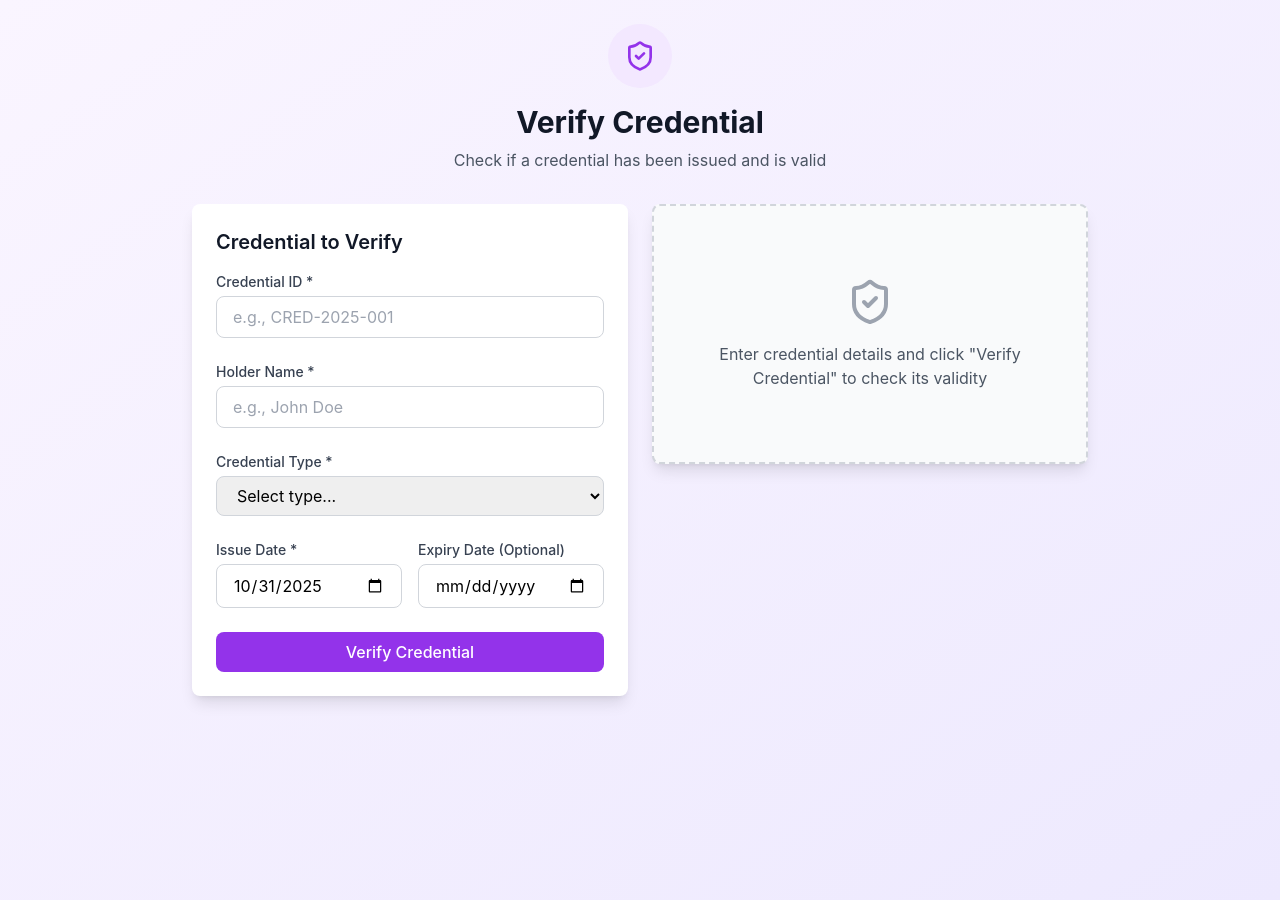
Test: VerificationPage › shows verified state and details when API returns verified=true
The width and height of the screenshot is (1280, 900).
Step 1. Type "CRED-1" into the field labelled "Credential ID *" → (410, 317), box [216,296,604,338]
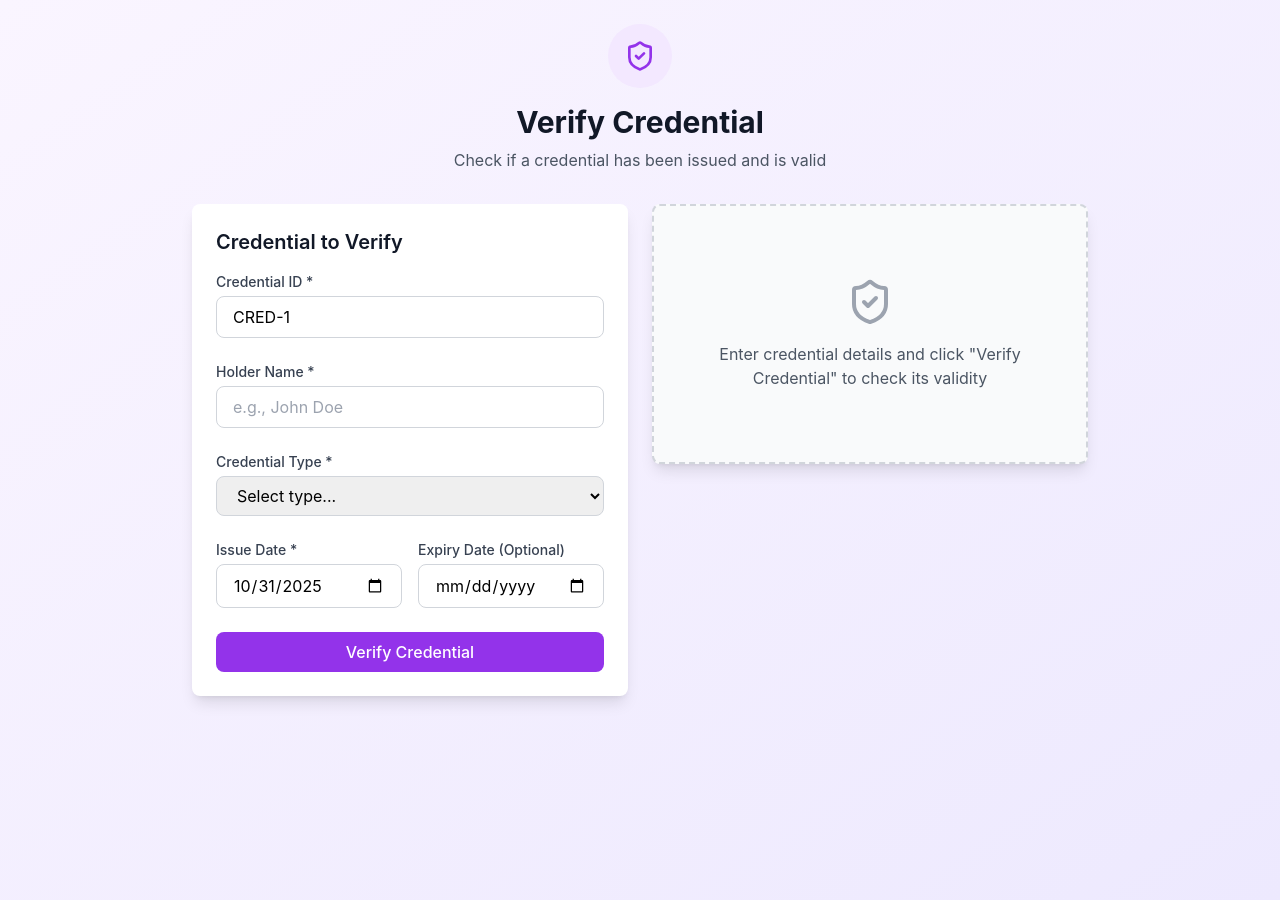
Step 2. Type "John Doe" into the field labelled "Holder Name *" → (410, 407), box [216,386,604,428]
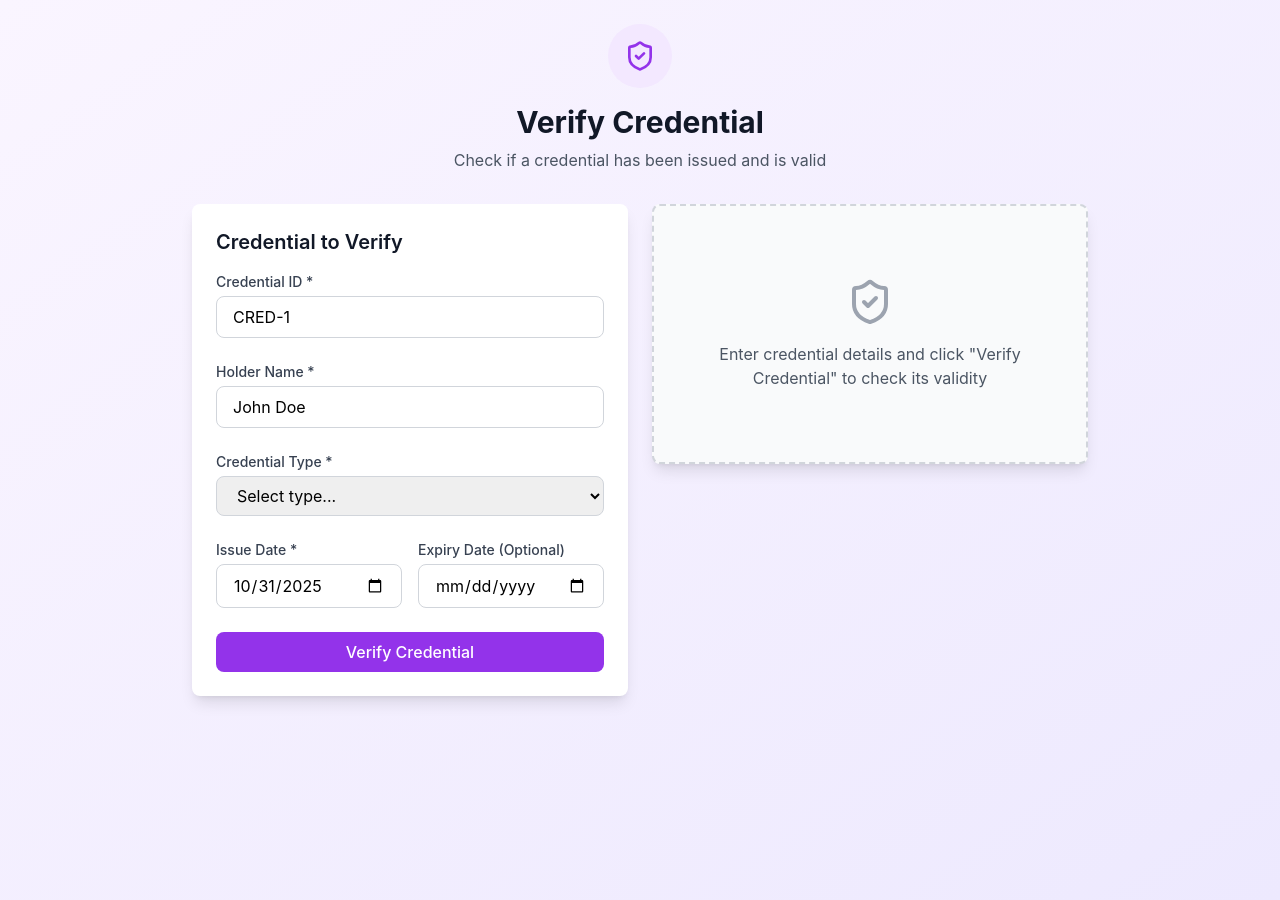
Step 3. Select "Passport" in the dropdown labelled "Credential Type *" → (410, 496), box [216,476,604,516]
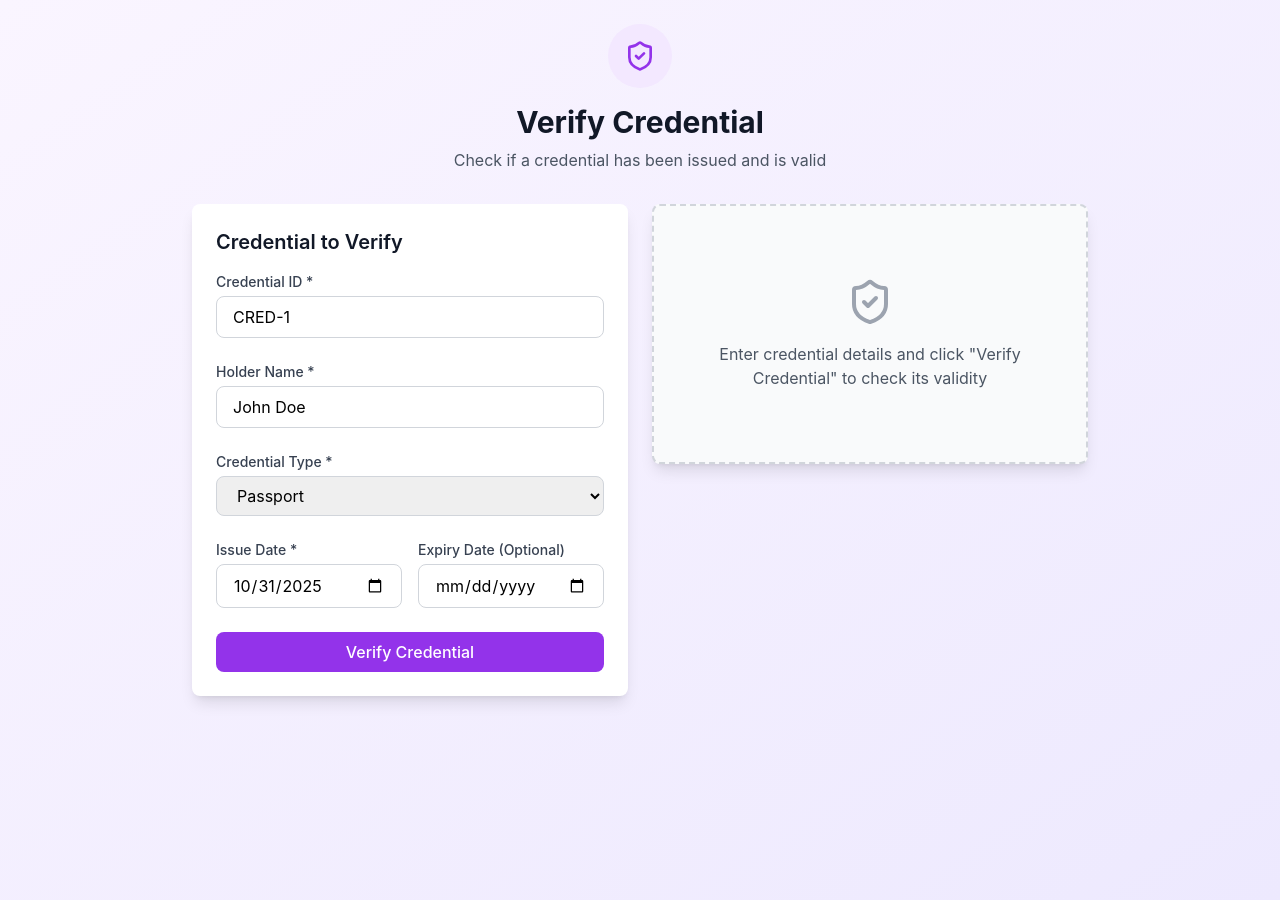
Step 4. Click the button "Verify Credential" → (410, 652), box [216,632,604,672]
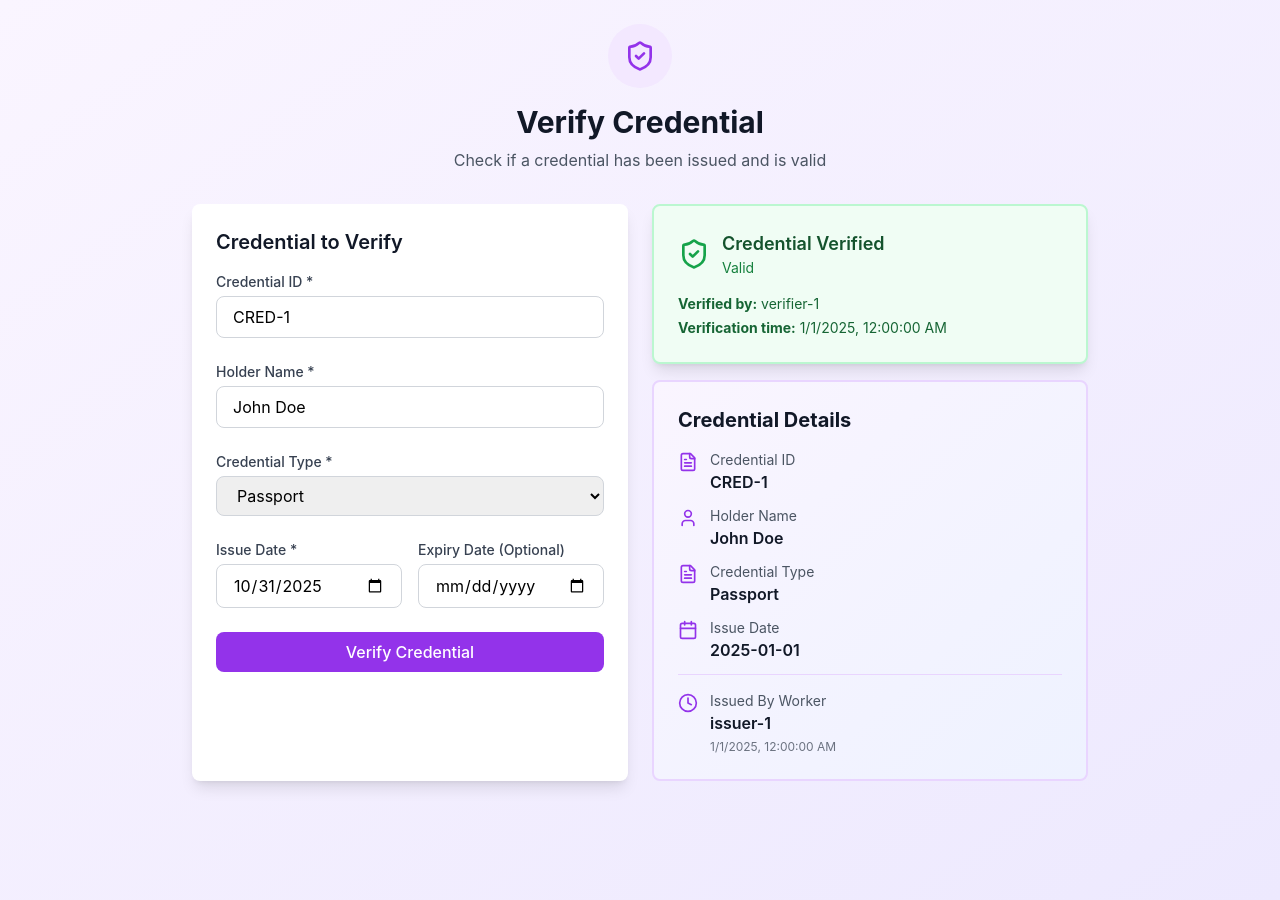
Expected: the heading "Credential Verified" is shown, [722,230,885,258]
Expected: the text "CRED-1" is shown, [710,472,768,492]
